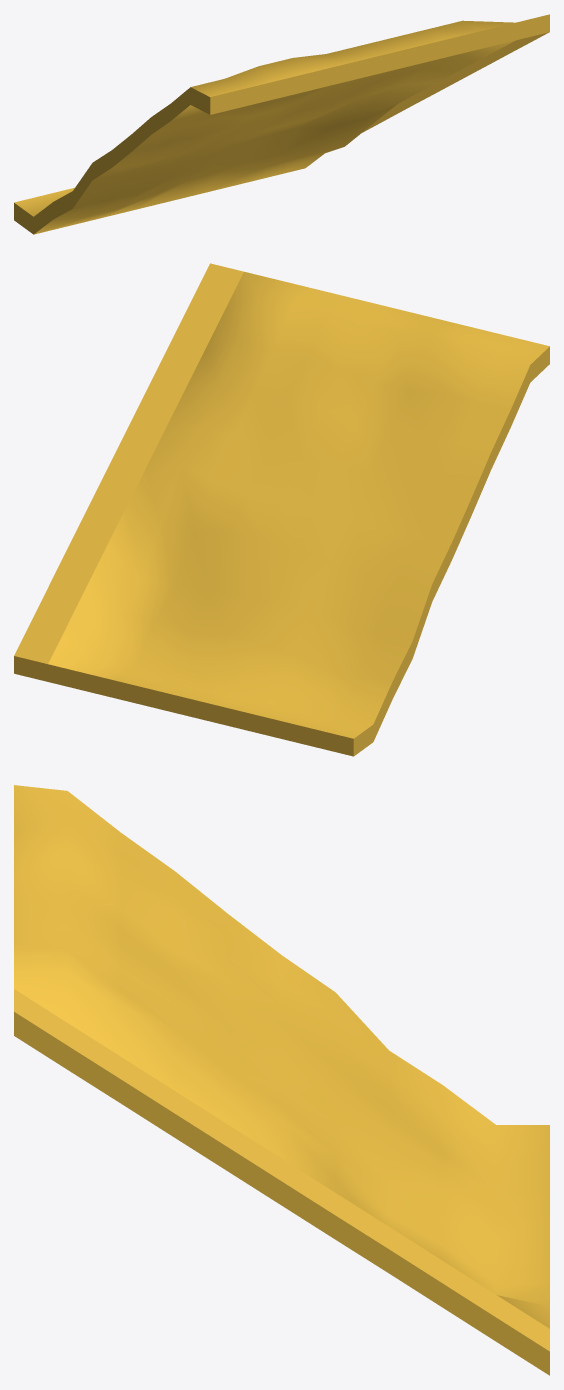
The model's file is Steil - Mitte - Hügel x - a.fbx.
3 views of the same model, one above another, from view 1: azimuth 30°, elevation 25°; view 2: azimuth 150°, elevation 25°; view 3: azimuth 270°, elevation 25° (orthographic). The views are drawn at different scales.
Visible parts, largest first — view 1: Steil - Mitte - Hügel x - a; view 2: Steil - Mitte - Hügel x - a; view 3: Steil - Mitte - Hügel x - a.
Boxes of the visible parts, x1,y1,x2,y2 form: Steil - Mitte - Hügel x - a: [14, 14, 549, 234]; Steil - Mitte - Hügel x - a: [14, 263, 549, 756]; Steil - Mitte - Hügel x - a: [14, 785, 549, 1375].
Bounding box in the file's own units: 394 × 295 × 394.
